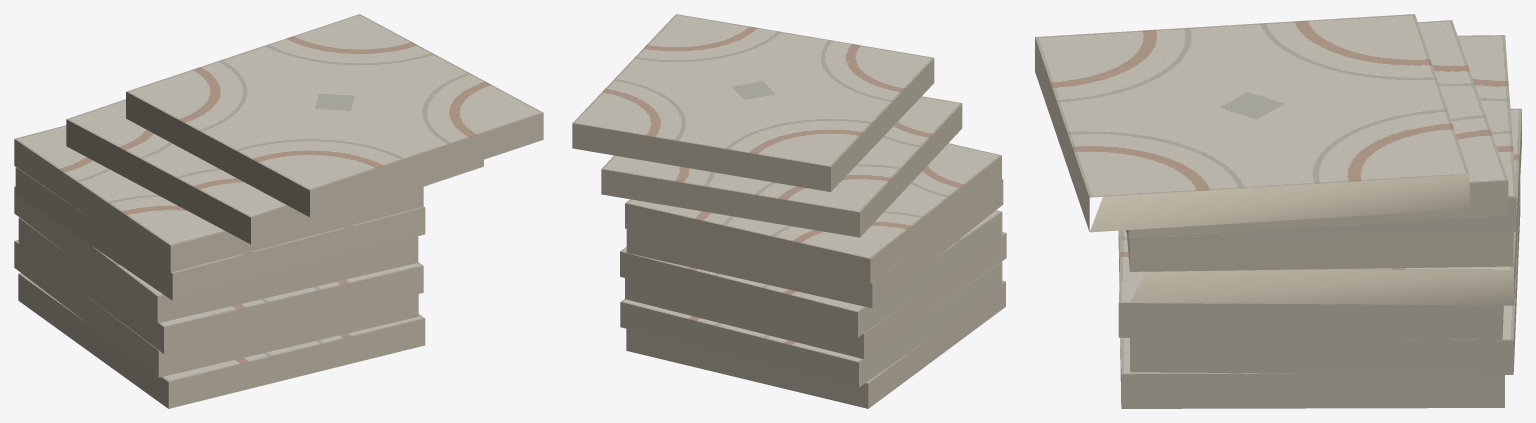
Rendered from GachMau_Chong.glb.
3 renders of one model, left to right at view 1: azimuth 30°, elevation 25°; view 2: azimuth 150°, elevation 25°; view 3: azimuth 270°, elevation 25°, orthographic. The views are drawn at different scales.
Parts seen in each view (by area): view 1: vien_8, vien_6, vien_7, vien_1, vien_3, vien_5, vien_4, vien_2; view 2: vien_8, vien_7, vien_6, vien_2, vien_4, vien_5, vien_3, vien_1; view 3: vien_8, vien_3, vien_4, vien_2, vien_1, vien_5, vien_7, vien_6.
Boxes of the visible parts, x1,y1,x2,y2 form: vien_8: (126, 14, 543, 217); vien_6: (14, 125, 423, 272); vien_7: (66, 99, 483, 244); vien_1: (18, 273, 425, 408); vien_3: (18, 217, 423, 353); vien_5: (15, 167, 425, 300); vien_4: (14, 186, 418, 323); vien_2: (14, 240, 418, 377); vien_8: (572, 14, 934, 191); vien_7: (601, 96, 962, 237); vien_6: (625, 143, 1001, 283); vien_2: (620, 261, 1002, 387); vien_4: (620, 210, 1002, 337); vien_5: (626, 179, 1003, 308); vien_3: (625, 232, 1006, 358); vien_1: (626, 280, 1005, 408); vien_8: (1035, 14, 1469, 232); vien_3: (1118, 230, 1503, 339); vien_4: (1130, 108, 1521, 305); vien_2: (1130, 181, 1520, 374); vien_1: (1118, 230, 1504, 408); vien_5: (1127, 232, 1513, 271); vien_7: (1125, 20, 1508, 238); vien_6: (1176, 35, 1516, 236).
Bounding box in the file's own units: 0.2865 × 0.16 × 0.2537.
2 materials, 1 textured.
